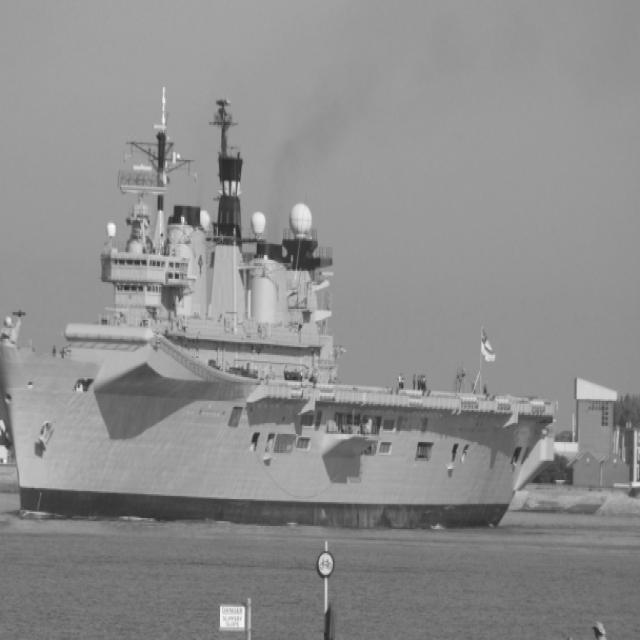Portanaves: (1, 75, 557, 538)
